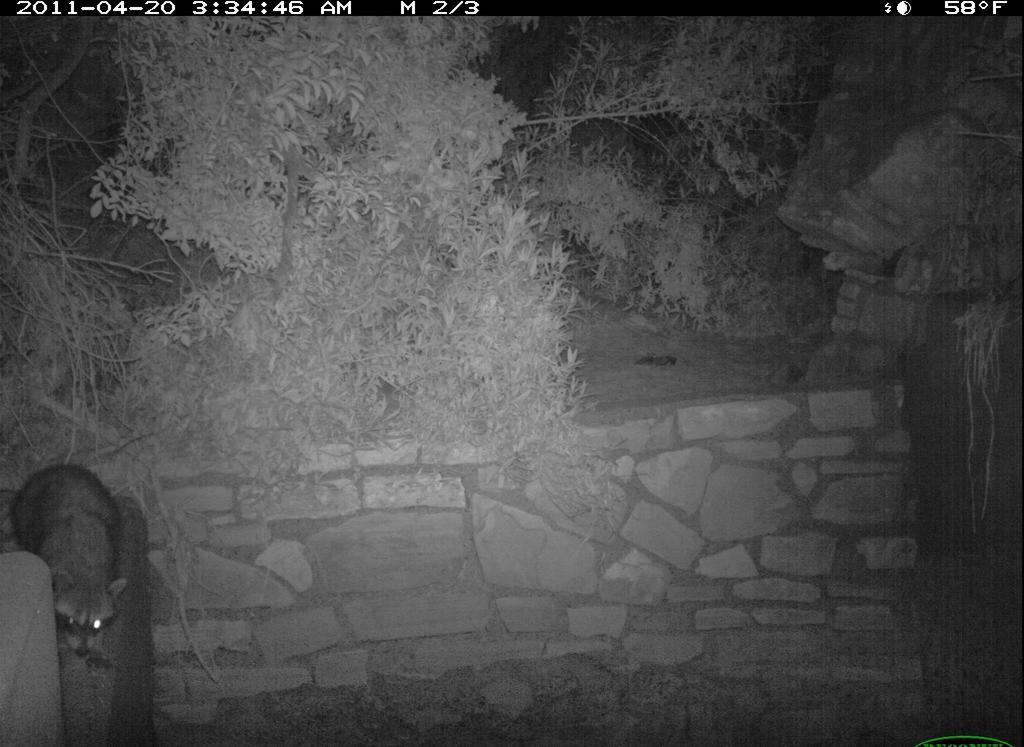raccoon: (8, 457, 140, 665)
